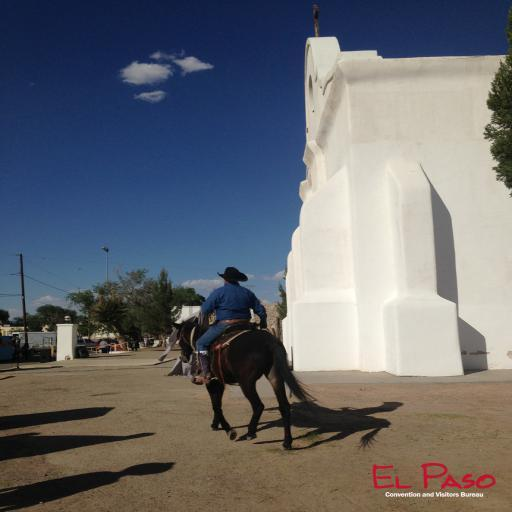horse: (170, 315, 321, 449)
